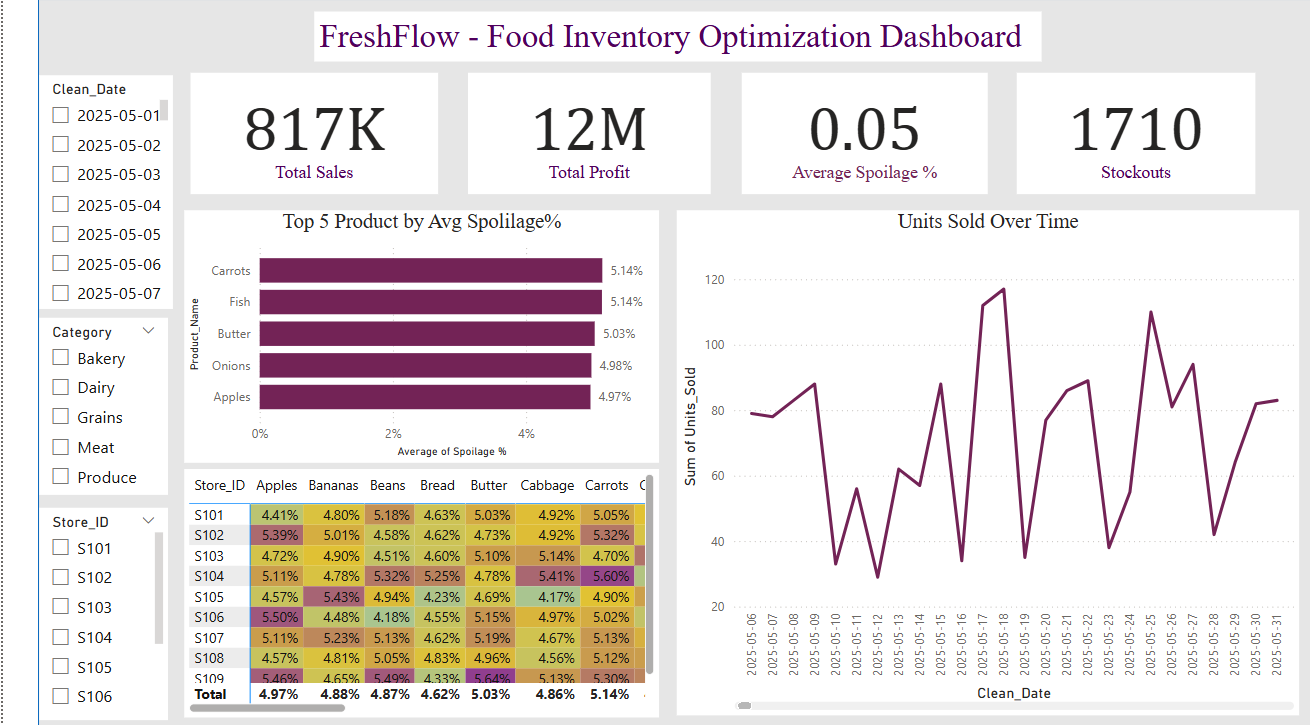

This screenshot's page, from the dashboard's own definition file:
{"tool":"powerbi","page":{"name":"Page 1","canvas":[1280,720],"ordinal":0},"visuals":[{"type":"card","fields":{"Values":["Sheet1.Total Sales"]},"box":[182.9,72,241.5,118.3],"z":0,"group":"g1"},{"type":"shape","box":[34.1,0,1245.1,720.7],"z":500},{"type":"card","fields":{"Values":["Sheet1.Average Spoilage %"]},"box":[720.7,72,240.2,118.3],"z":1000,"group":"g1"},{"type":"card","fields":{"Values":["Sheet1.Total Profit"]},"box":[453.6,72,236.6,118.3],"z":2000,"group":"g1"},{"type":"slicer","fields":{"Values":["Sheet1.Store_ID"]},"box":[35.4,496.3,125.6,207.3],"z":2500},{"type":"slicer","fields":{"Values":["Sheet1.Category"]},"box":[35.4,311,125.6,173.2],"z":2750},{"type":"card","fields":{"Values":["Sheet1.Stockouts"]},"box":[989,72,232.9,118.3],"z":3000,"group":"g1"},{"type":"textbox","box":[303.3,12.2,709.2,48.9],"z":4000},{"type":"clusteredBarChart","title":"Top 5 Product by Avg Spolilage%","fields":{"Category":["Sheet1.Product_Name"],"Y":["Avg(Sheet1.Spoilage %)"]},"box":[176.8,206.1,463.4,246.3],"z":4000,"group":"g1"},{"type":"slicer","fields":{"Values":["Sheet1.Clean_Date"]},"box":[35.4,74.4,130.5,228],"z":4500},{"type":"group","id":"g1","title":"Group 1","box":[176.8,72,1087.8,629.3],"z":5000},{"type":"lineChart","title":"Units Sold Over Time","fields":{"Category":["Sheet1.Clean_Date.Variation.Date Hierarchy.Year"],"Y":["Sum(Sheet1.Units_Sold)"]},"box":[657.3,206.1,607.3,492.7],"z":5000,"group":"g1"},{"type":"pivotTable","fields":{"Rows":["Sheet1.Store_ID"],"Columns":["Sheet1.Product_Name"],"Values":["Avg(Sheet1.Spoilage %)"]},"box":[176.8,458.6,463.4,242.7],"z":6000,"group":"g1"}]}

Visuals, with their boxes on the page's 1280x720 design canvas (x1, y1, x2, y2). These are canvas units, not pixel positions in the 1310x725 screenshot, which may show the page scaled, cropped or inside an application window:
card - Sheet1.Total Sales: (183,72,424,190)
shape: (34,0,1279,721)
card - Sheet1.Average Spoilage %: (721,72,961,190)
card - Sheet1.Total Profit: (454,72,690,190)
slicer - Sheet1.Store_ID: (35,496,161,704)
slicer - Sheet1.Category: (35,311,161,484)
card - Sheet1.Stockouts: (989,72,1222,190)
textbox: (303,12,1012,61)
"Top 5 Product by Avg Spolilage%" clusteredBarChart: (177,206,640,452)
slicer - Sheet1.Clean_Date: (35,74,166,302)
"Group 1" group: (177,72,1265,701)
"Units Sold Over Time" lineChart: (657,206,1265,699)
pivotTable - Sheet1.Store_ID x Sheet1.Product_Name: (177,459,640,701)
